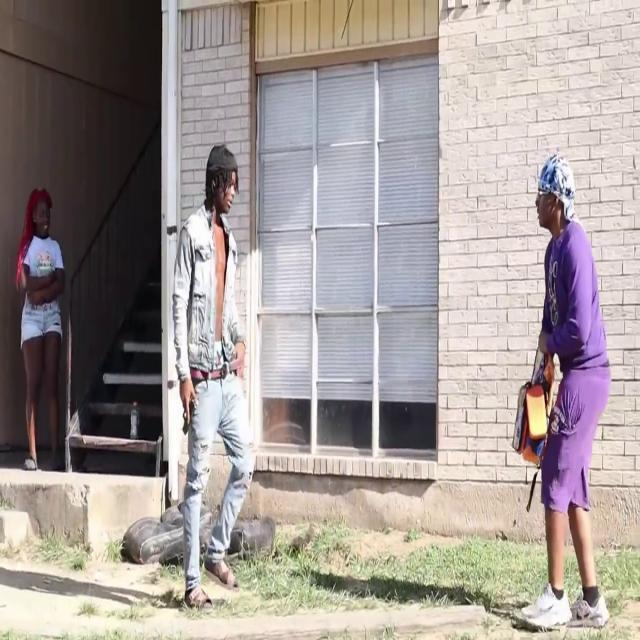Handgun: (178, 374, 198, 436)
